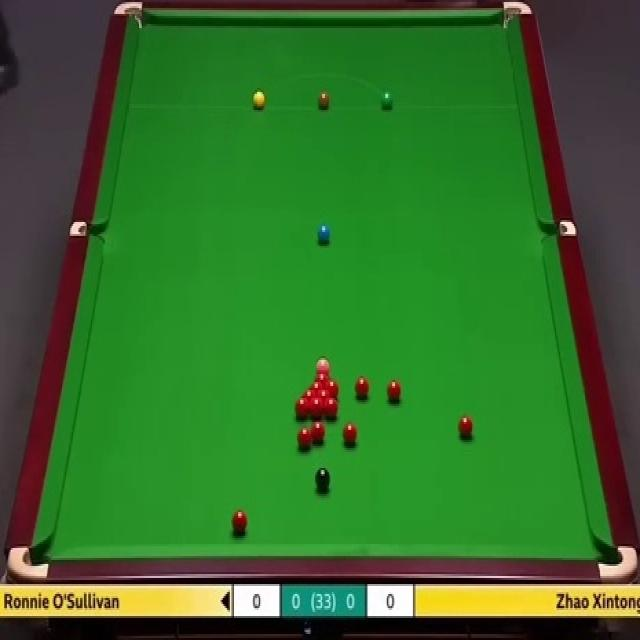black-ball: (314, 466, 332, 492)
blue-ball: (316, 221, 332, 246)
brown-ball: (317, 91, 331, 111)
green-ball: (382, 90, 396, 112)
pink-ball: (314, 355, 332, 372)
red-ball: (296, 427, 314, 452), (458, 414, 474, 441), (354, 376, 370, 401), (294, 396, 310, 421), (343, 421, 358, 446), (386, 380, 401, 405), (232, 511, 246, 535), (311, 422, 325, 445), (324, 397, 338, 420), (310, 398, 324, 420), (324, 380, 339, 398), (316, 388, 334, 401), (314, 372, 331, 381), (304, 388, 317, 399), (310, 380, 324, 389)
yellow-ball: (252, 90, 266, 110)
